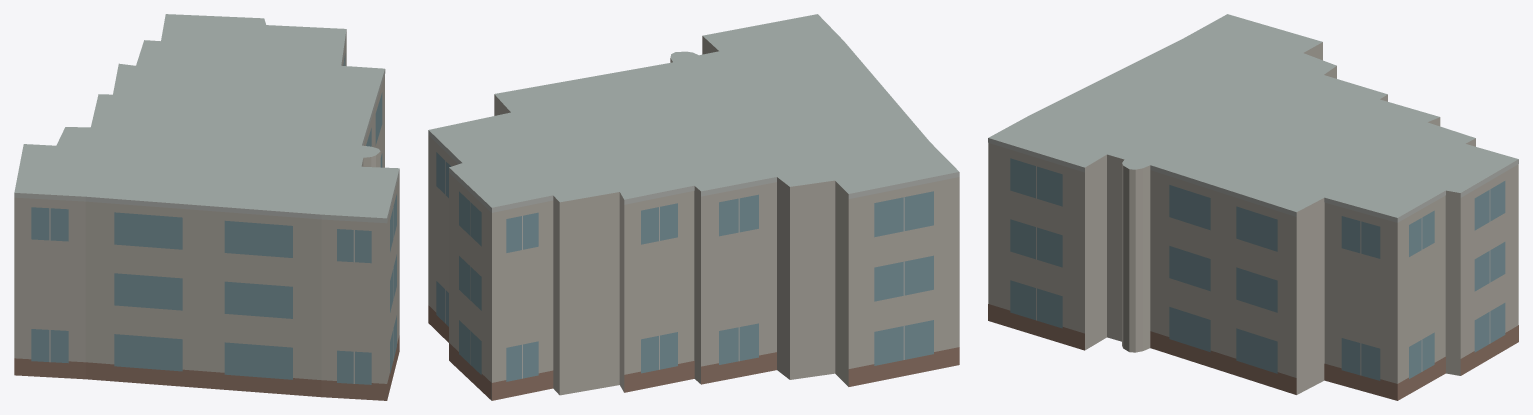
The model's file is survey-upis-32467885.glb.
3 views of the same model, side by side, from view 1: azimuth 30°, elevation 25°; view 2: azimuth 150°, elevation 25°; view 3: azimuth 270°, elevation 25° (orthographic). The views are drawn at different scales.
Parts seen in each view (by area): view 1: survey-upis-32467885.tmp; view 2: survey-upis-32467885.tmp; view 3: survey-upis-32467885.tmp.
Part boxes in pixels (x1,y1,x2,y2): survey-upis-32467885.tmp: (14,14,399,400); survey-upis-32467885.tmp: (428,14,959,400); survey-upis-32467885.tmp: (988,14,1518,400).
Bounding box in the file's own units: 21.89 × 9.15 × 24.06.
